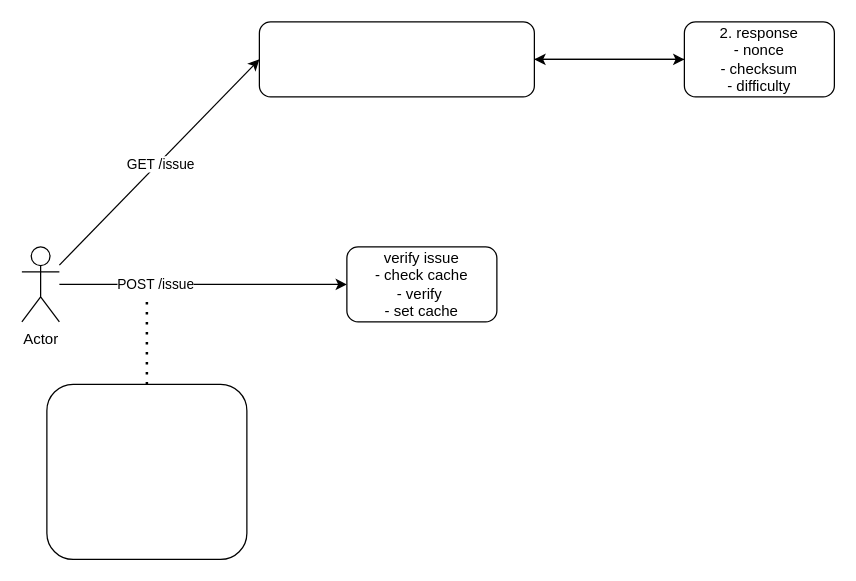
Some shapes in this 856 by 581 pixel diagram are drawn without their labels. The centre of each missing label's shape, as x and y in pixels:
"1. generate - none with nonce length - checksum none with secret - difficulty" belongs at point 396,59.
"request body difficulty int nonce str checksum str counter int hash str" belongs at point 146,471.
